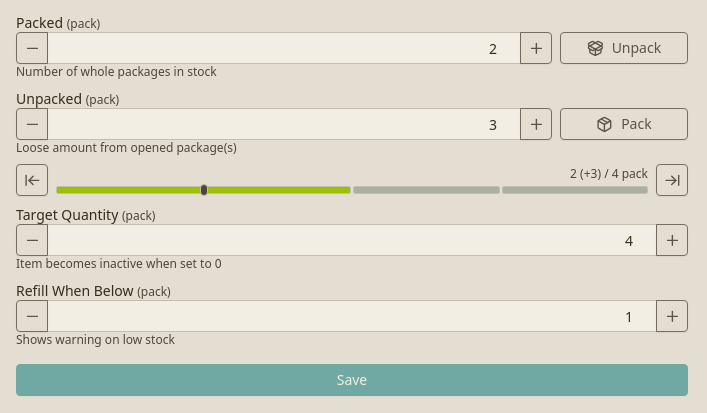
Test: ItemForm — stock tab steppers step by the Constraint-4 increment › user steps Refill and Unpacked by consumeAmount in package mode
Click the button named "Increase refill threshold" at (672, 316), box [656,300,688,332]
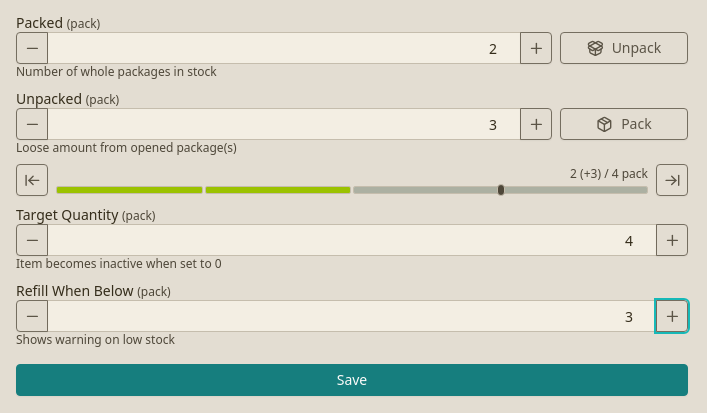
expect the number field labelled "Refill When Below (pack)" holds "3": met, box [47,300,657,332]
Click the button named "Increase unpacked" at (536, 124), box [520,108,552,140]
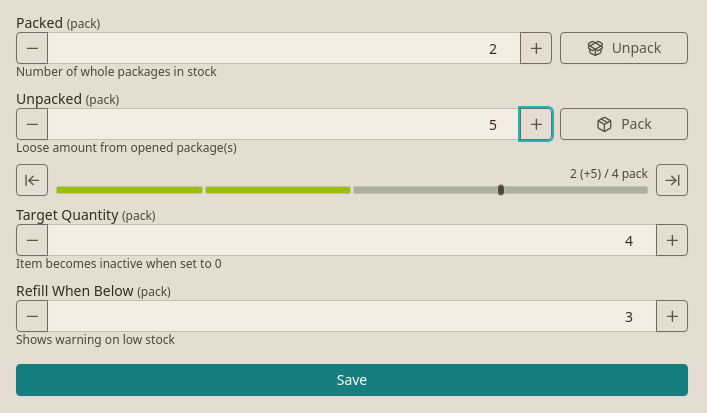
expect the number field labelled "Unpacked (pack)" holds "5": met, box [47,108,521,140]
